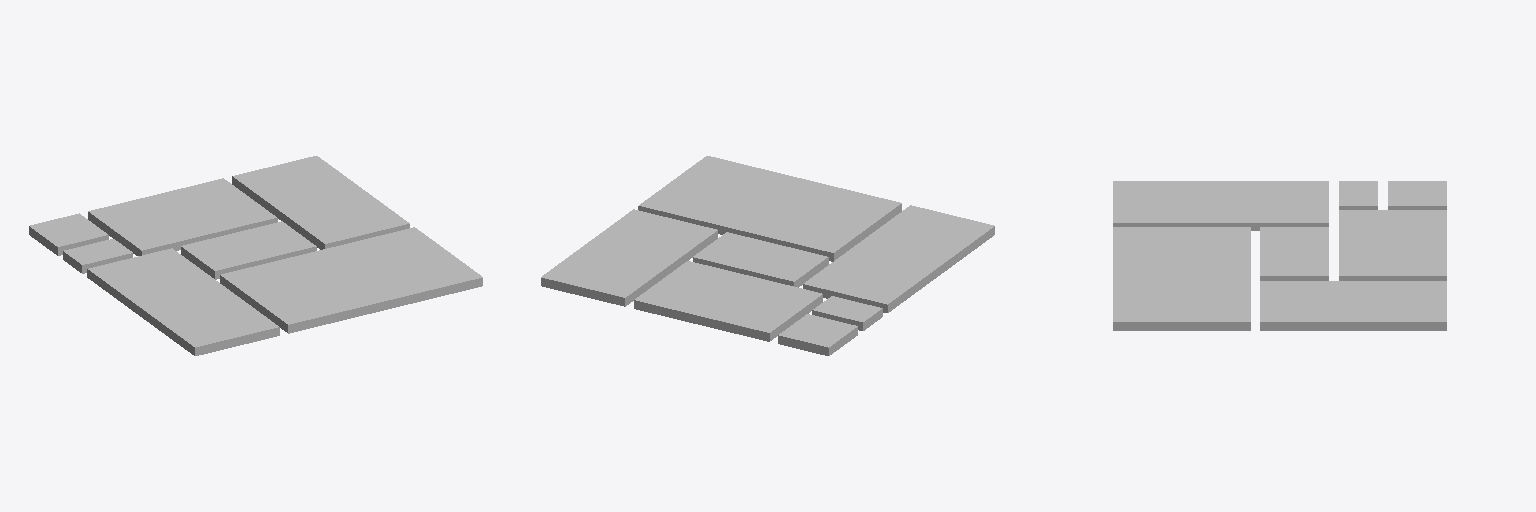
Rendered from Ground_1.obj.
The picture shows the model from 3 angles: view 1: azimuth 30°, elevation 25°; view 2: azimuth 150°, elevation 25°; view 3: azimuth 270°, elevation 25°; orthographic projection.
Size of the model in its own units: 0.85 by 0.025 by 0.85.